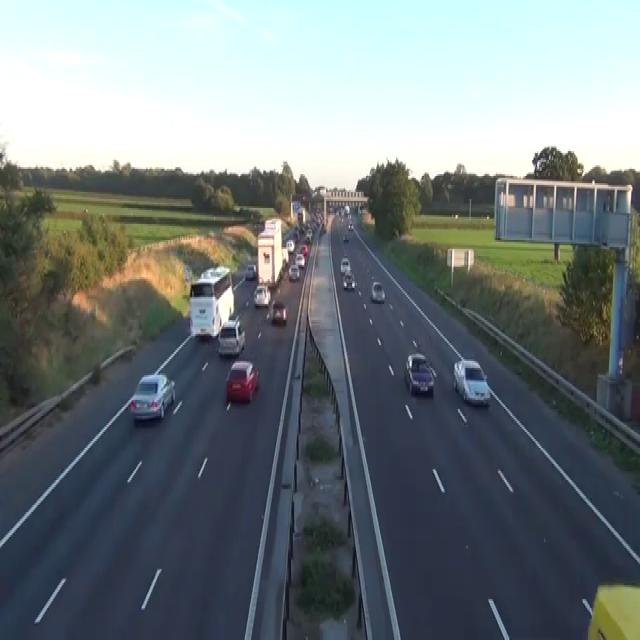Car: (587, 582, 639, 638), (129, 372, 175, 422), (453, 358, 490, 406), (225, 359, 258, 402), (404, 352, 434, 396), (217, 318, 245, 356), (200, 265, 230, 281), (270, 298, 288, 324), (253, 282, 270, 308), (370, 281, 385, 302), (343, 270, 356, 290), (200, 267, 217, 279), (340, 256, 350, 276), (288, 263, 299, 281), (245, 263, 256, 279), (183, 263, 191, 283), (295, 252, 305, 266), (286, 238, 294, 252), (253, 221, 263, 231), (300, 244, 308, 256), (343, 268, 352, 278), (305, 231, 312, 242), (328, 204, 335, 212), (392, 228, 399, 236), (320, 224, 326, 233), (348, 220, 353, 230), (344, 204, 349, 213), (343, 233, 348, 242), (340, 215, 344, 222)
Truck: (188, 265, 234, 338), (256, 217, 282, 286)
